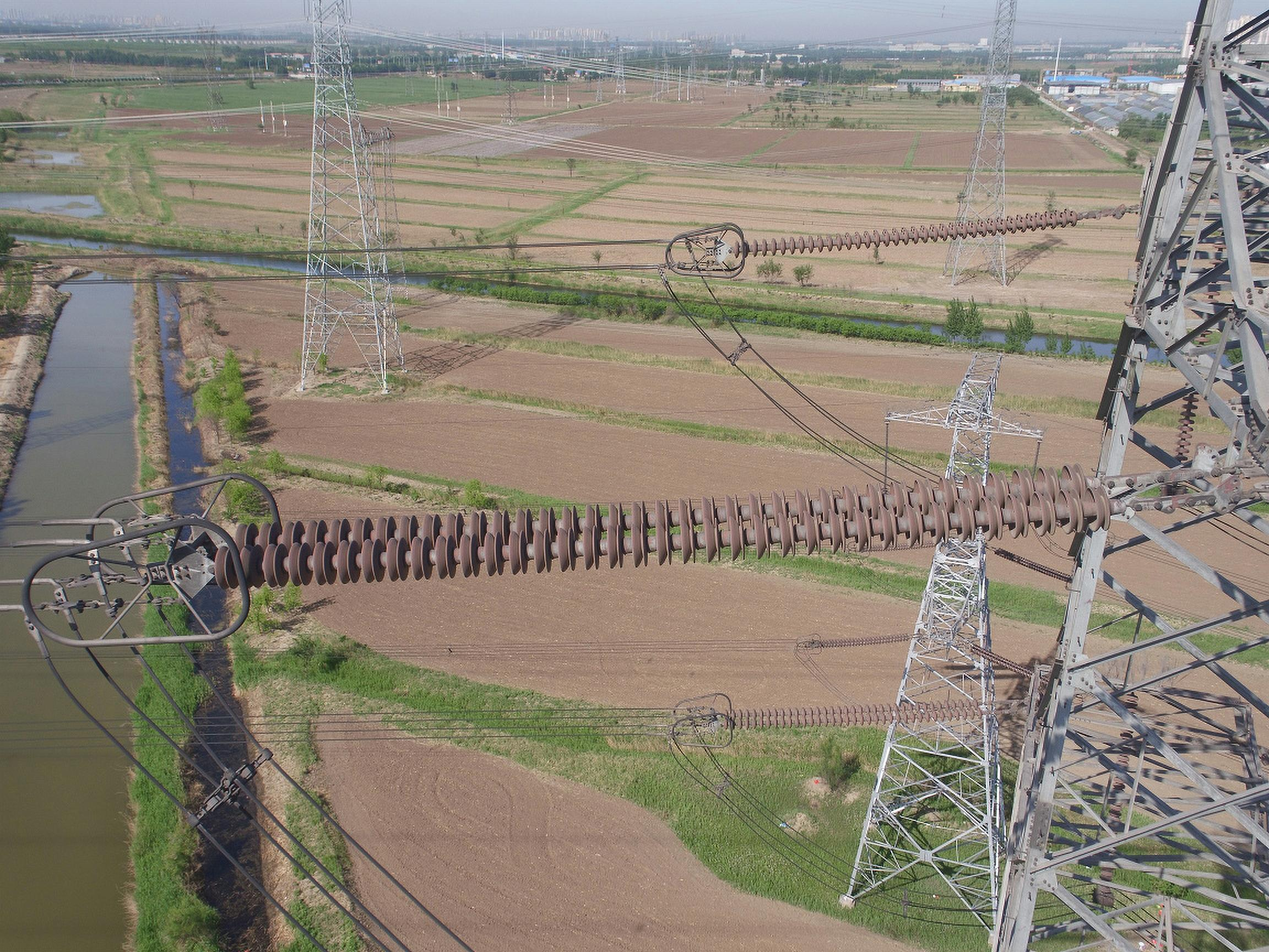insulator: (210, 457, 1118, 595), (730, 206, 1080, 261), (721, 695, 984, 733), (1097, 692, 1141, 879), (1192, 239, 1228, 345), (992, 545, 1073, 583), (969, 641, 1033, 680), (1173, 385, 1201, 463), (816, 631, 912, 650), (854, 538, 935, 555)
